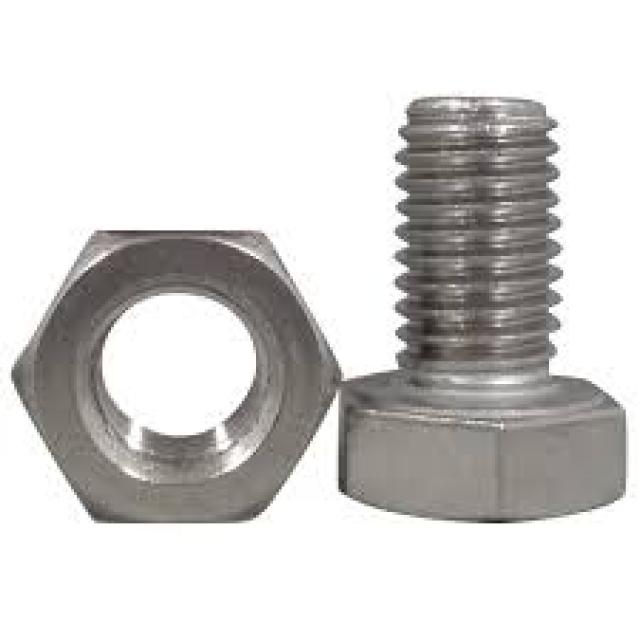Turning: (337, 80, 637, 556), (11, 196, 349, 559)
